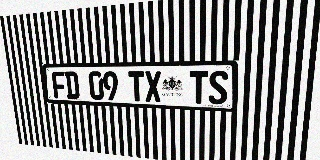0: (88, 71, 104, 100)
9: (103, 71, 119, 101)
D: (64, 71, 80, 99)
F: (51, 71, 67, 99)
S: (208, 71, 228, 105)
T: (190, 71, 208, 104), (128, 71, 145, 102)
X: (144, 71, 162, 102)
